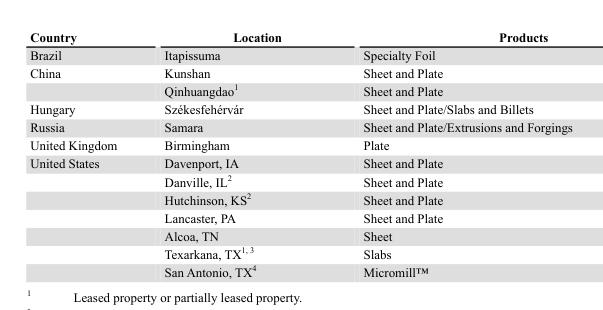table: (29, 29, 571, 278)
table column: (321, 29, 571, 278), (139, 29, 321, 278), (29, 29, 139, 278)
table column header: (29, 29, 571, 45)
table row: (29, 80, 571, 99), (29, 135, 571, 154), (29, 189, 571, 208), (29, 45, 571, 63), (29, 99, 571, 117), (29, 117, 571, 135), (29, 171, 571, 189), (29, 208, 571, 226), (29, 243, 571, 261), (29, 63, 571, 80), (29, 154, 571, 171), (29, 226, 571, 243), (29, 261, 571, 278), (29, 29, 571, 45)
table spanning cell: (29, 154, 139, 278), (29, 63, 139, 99)
